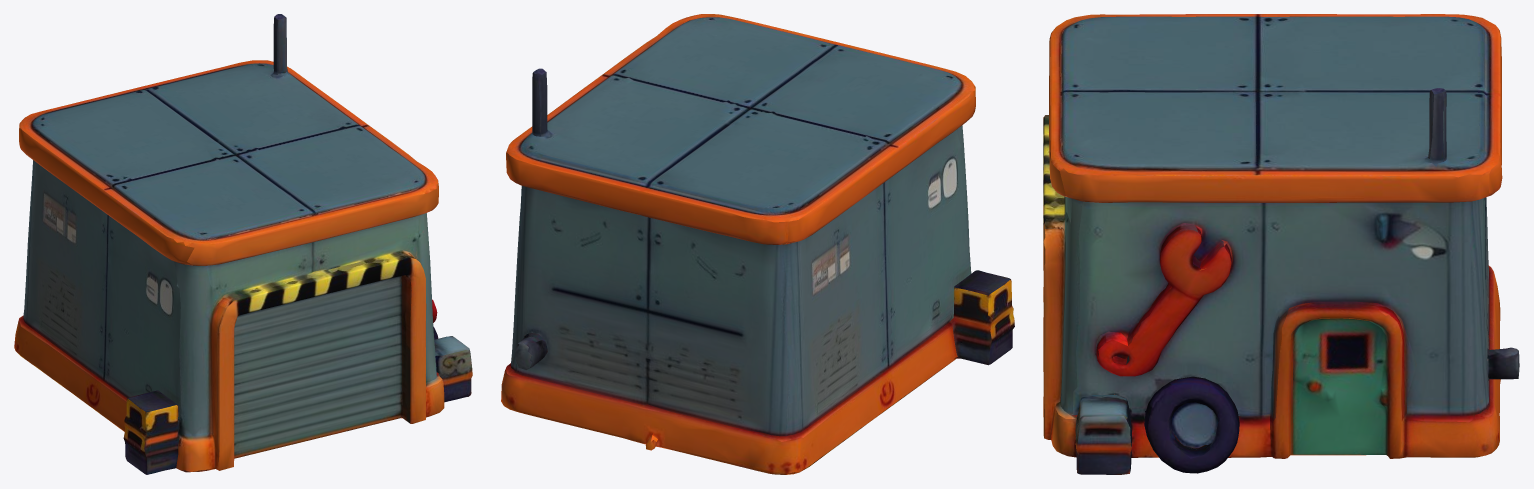
Rendered from garage.glb.
3 views of the same model, side by side, from view 1: azimuth 30°, elevation 25°; view 2: azimuth 150°, elevation 25°; view 3: azimuth 270°, elevation 25° (orthographic). The views are drawn at different scales.
Parts seen in each view (by area): view 1: garage; view 2: garage; view 3: garage.
Boxes of the visible parts, x1,y1,x2,y2 form: garage: (14,14,472,474); garage: (501,14,1014,474); garage: (1043,14,1519,474).
Bounding box in the file's own units: 0.9985 × 0.8342 × 1.
1 material, 1 textured.
